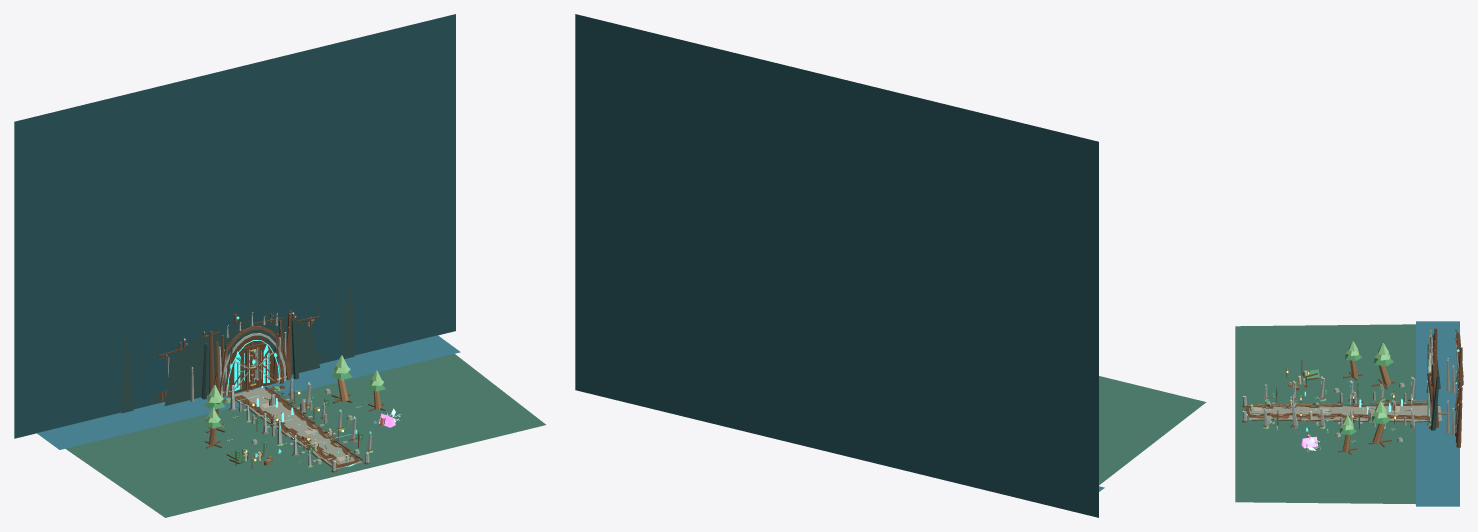
The model's file is elarthalas_approach_visual_benchmark_v002.glb.
The picture shows the model from 3 angles, left to right: view 1: azimuth 30°, elevation 25°; view 2: azimuth 150°, elevation 25°; view 3: azimuth 270°, elevation 25°; orthographic projection. The views are drawn at different scales.
Visible parts, largest first — view 1: ELAR_Terrain_Backdrop_SacredMorningSky, ELAR_Terrain_SacredApproachGround_76x38m, ELAR_Terrain_DistantBlueMistBackplate, ELAR_ArchiveCity_SilentGate_BackgroundLayeredBlueGreenFog_Ce, ELAR_ArchiveCity_SilentGate_DarkRootSealedBackplate_OrganicA, ELAR_Terrain_SacredRootroad_MossyStoneWalkableCore_ClearRout, ELAR_ArchiveCity_BackgroundFogShard_00_NoFlatWall, ELAR_Terrain_SacredRootroad_TaperedLivingRootBed_OrganicSilh, ELAR_Terrain_Backdrop_DistantArchiveRootButtress_00_BreaksOp, ELAR_Terrain_Backdrop_DistantArchiveRootButtress_05_BreaksOp; view 2: ELAR_Terrain_Backdrop_SacredMorningSky, ELAR_Terrain_SacredApproachGround_76x38m; view 3: ELAR_Terrain_SacredApproachGround_76x38m, ELAR_Terrain_DistantBlueMistBackplate, ELAR_Terrain_SacredRootroad_MossyStoneWalkableCore_ClearRout, ELAR_Terrain_SacredRootroad_TaperedLivingRootBed_OrganicSilh.
Boxes of the visible parts, bbox=[...] form: ELAR_Terrain_Backdrop_SacredMorningSky: bbox=[14, 14, 455, 438]; ELAR_Terrain_SacredApproachGround_76x38m: bbox=[65, 354, 545, 517]; ELAR_Terrain_DistantBlueMistBackplate: bbox=[37, 335, 460, 449]; ELAR_ArchiveCity_SilentGate_BackgroundLayeredBlueGreenFog_Ce: bbox=[164, 316, 319, 405]; ELAR_ArchiveCity_SilentGate_DarkRootSealedBackplate_OrganicA: bbox=[228, 335, 273, 394]; ELAR_Terrain_SacredRootroad_MossyStoneWalkableCore_ClearRout: bbox=[240, 388, 351, 463]; ELAR_ArchiveCity_BackgroundFogShard_00_NoFlatWall: bbox=[146, 354, 168, 396]; ELAR_Terrain_SacredRootroad_TaperedLivingRootBed_OrganicSilh: bbox=[234, 388, 354, 465]; ELAR_Terrain_Backdrop_DistantArchiveRootButtress_00_BreaksOp: bbox=[121, 334, 133, 413]; ELAR_Terrain_Backdrop_DistantArchiveRootButtress_05_BreaksOp: bbox=[342, 280, 354, 358]; ELAR_Terrain_Backdrop_SacredMorningSky: bbox=[575, 14, 1098, 517]; ELAR_Terrain_SacredApproachGround_76x38m: bbox=[1099, 376, 1206, 485]; ELAR_Terrain_SacredApproachGround_76x38m: bbox=[1235, 324, 1415, 504]; ELAR_Terrain_DistantBlueMistBackplate: bbox=[1416, 321, 1459, 506]; ELAR_Terrain_SacredRootroad_MossyStoneWalkableCore_ClearRout: bbox=[1249, 405, 1429, 415]; ELAR_Terrain_SacredRootroad_TaperedLivingRootBed_OrganicSilh: bbox=[1248, 402, 1429, 419].
Bounding box in the file's own units: 88 × 60.4 × 41.7.
